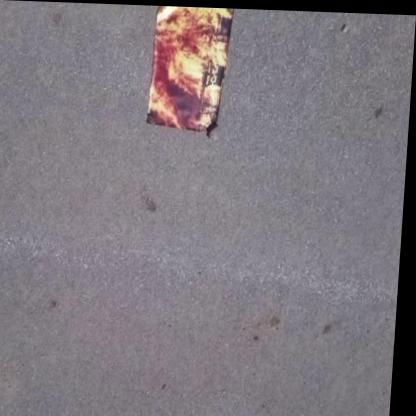fire-poster: (145, 5, 236, 139)
